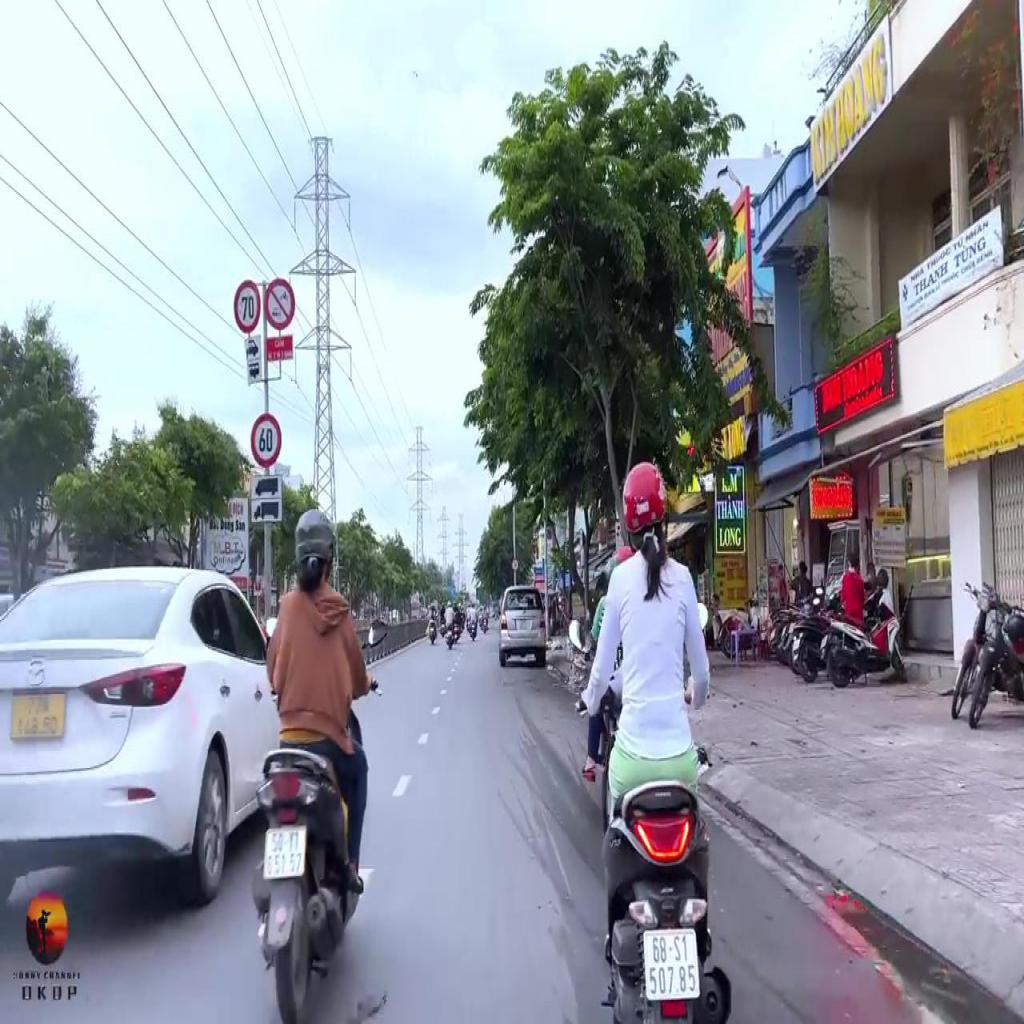cam_xe_2_banh_va_xe_3_banh_co_dong_co: (264, 279, 295, 330)
khac: (234, 280, 261, 333), (250, 475, 282, 501), (250, 499, 282, 522), (244, 336, 261, 360), (247, 360, 262, 381)
toc_do_toi_da_60: (252, 414, 282, 468)
